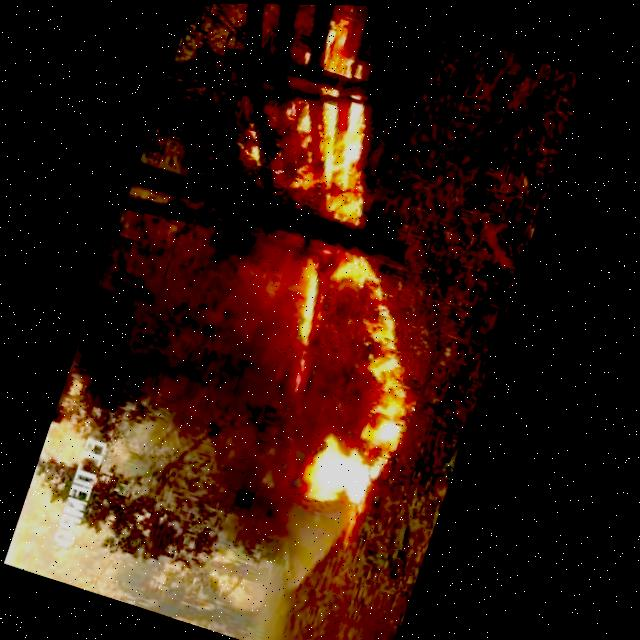Smoke: (262, 243, 453, 524), (253, 75, 396, 226), (281, 258, 331, 343), (313, 12, 374, 77), (285, 352, 311, 394), (228, 138, 264, 166)
